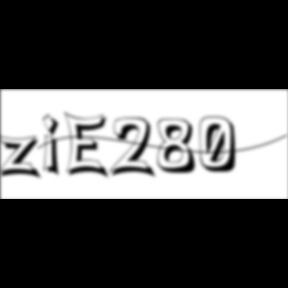0: (200, 115, 244, 174)
2: (110, 117, 160, 181)
8: (158, 117, 202, 176)
E: (64, 110, 114, 182)
i: (43, 112, 67, 180)
z: (0, 134, 46, 182)
